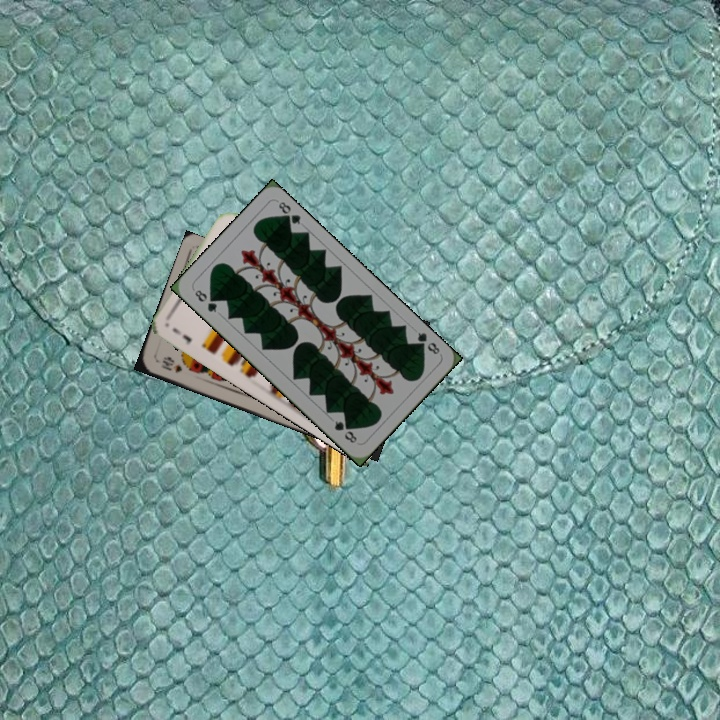E7: (169, 324, 195, 347)
G8: (189, 285, 220, 315), (411, 328, 442, 357)
S10: (153, 355, 185, 375)
